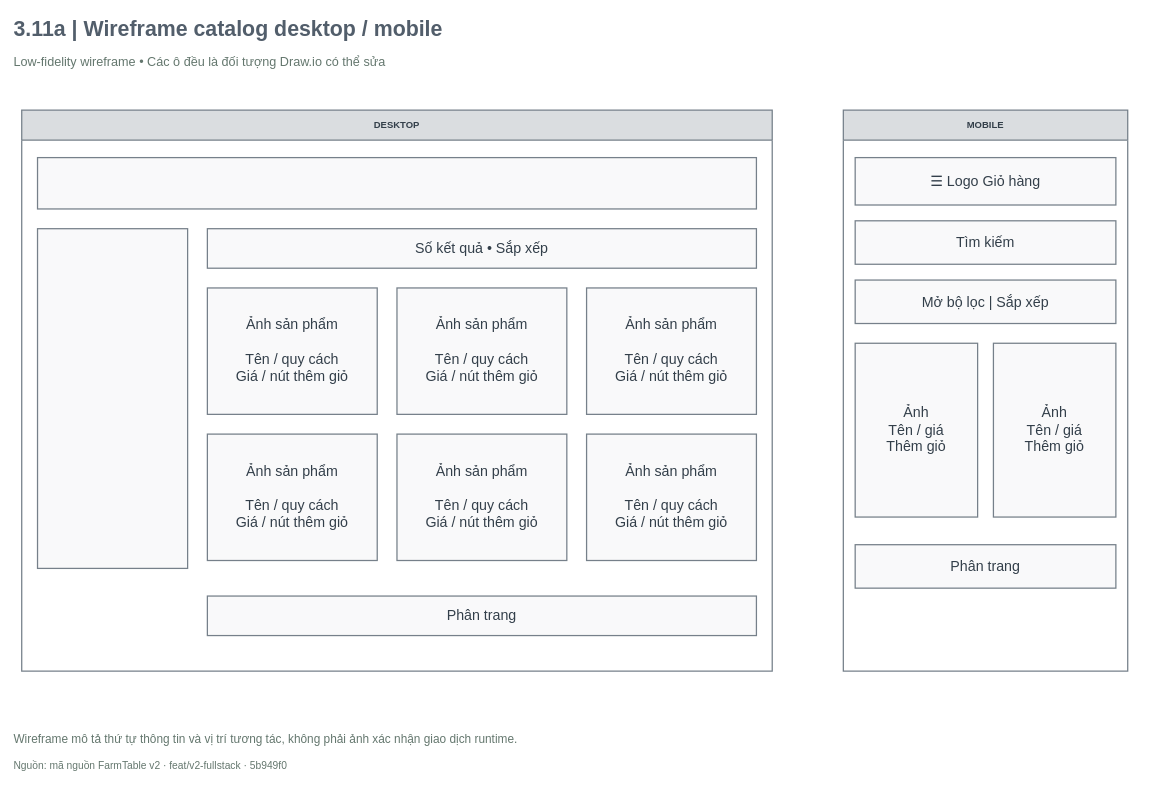
Image size: 1164x788. Some labels were removed from this diagram. The shapes that lost their labels are listed below. From the top down, each one's centre as x and y in pixels, then its label:
At point 396,183: "Logo | Tìm kiếm sản phẩm | Tài khoản | Giỏ hàng".
At point 112,398: "Bộ lọc Danh mục Khoảng giá Nông trại Còn hàng".
